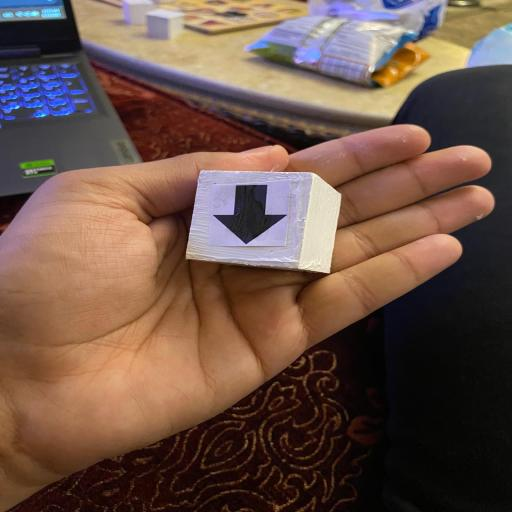Down: (182, 168, 342, 273)
